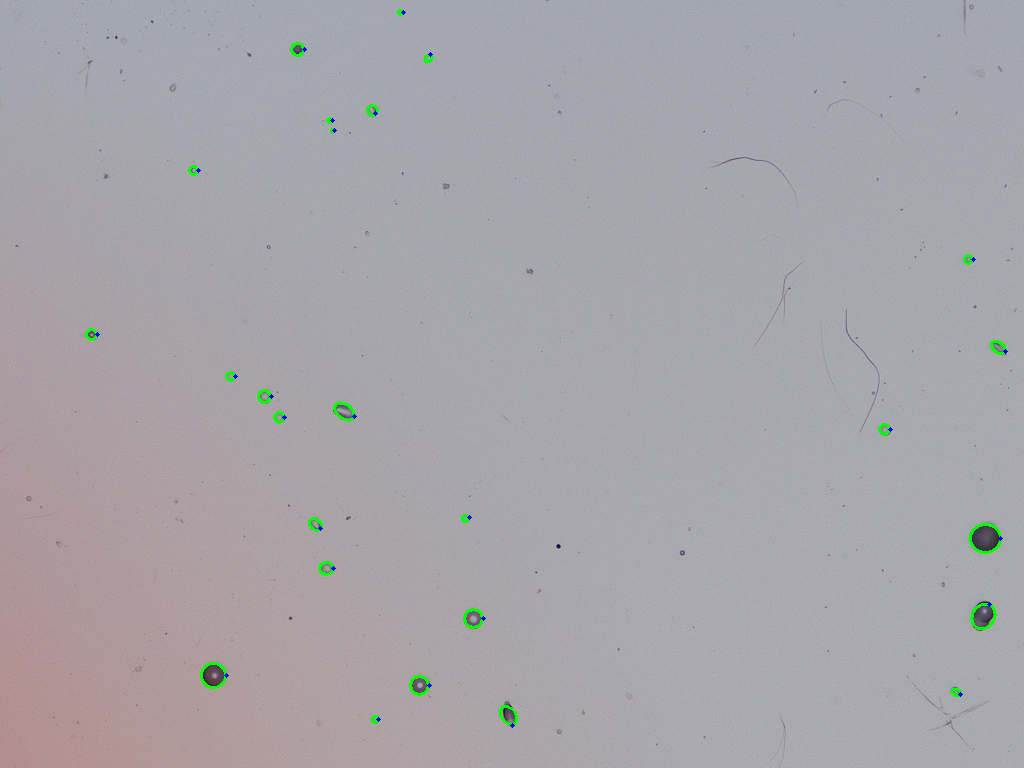circle: (970, 524, 1000, 553), (201, 663, 226, 687), (463, 609, 483, 628), (410, 675, 429, 694), (257, 389, 271, 403), (319, 561, 333, 575), (291, 43, 304, 56), (878, 423, 890, 435), (86, 329, 97, 340), (273, 412, 284, 422), (189, 165, 198, 174), (226, 371, 235, 380), (964, 254, 973, 263), (462, 514, 469, 521), (372, 716, 378, 722), (397, 9, 403, 15), (327, 117, 332, 122), (330, 129, 334, 132)
ellipse: (972, 602, 995, 631), (502, 701, 515, 728), (333, 404, 355, 419), (990, 341, 1006, 353), (309, 517, 320, 531), (366, 104, 377, 117), (951, 687, 961, 696), (424, 53, 431, 63)
